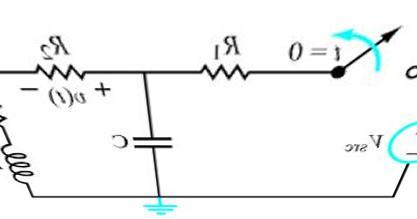resistor: (186, 55, 269, 85), (25, 56, 88, 85)
